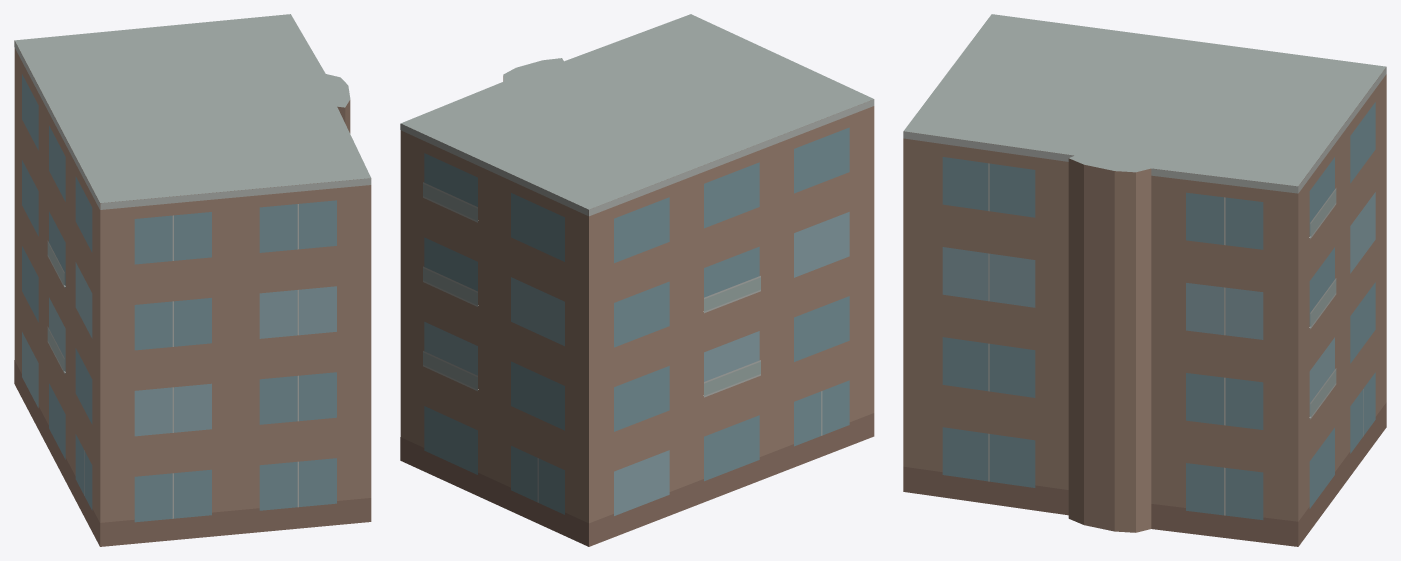
The model's file is survey-upis-32703121.glb.
The picture shows the model from 3 angles, left to right: view 1: azimuth 30°, elevation 25°; view 2: azimuth 150°, elevation 25°; view 3: azimuth 270°, elevation 25°; orthographic projection. The views are drawn at different scales.
Visible parts, largest first — view 1: survey-upis-32703121.tmp; view 2: survey-upis-32703121.tmp; view 3: survey-upis-32703121.tmp.
Part boxes in pixels (<box>): survey-upis-32703121.tmp: <box>14,14,371,546</box>; survey-upis-32703121.tmp: <box>400,14,874,546</box>; survey-upis-32703121.tmp: <box>903,14,1386,546</box>.
Bounding box in the file's own units: 12.52 × 12.2 × 14.83.
